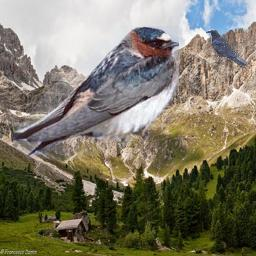Crow: (205, 29, 248, 70)
Swallow: (13, 26, 179, 159)
